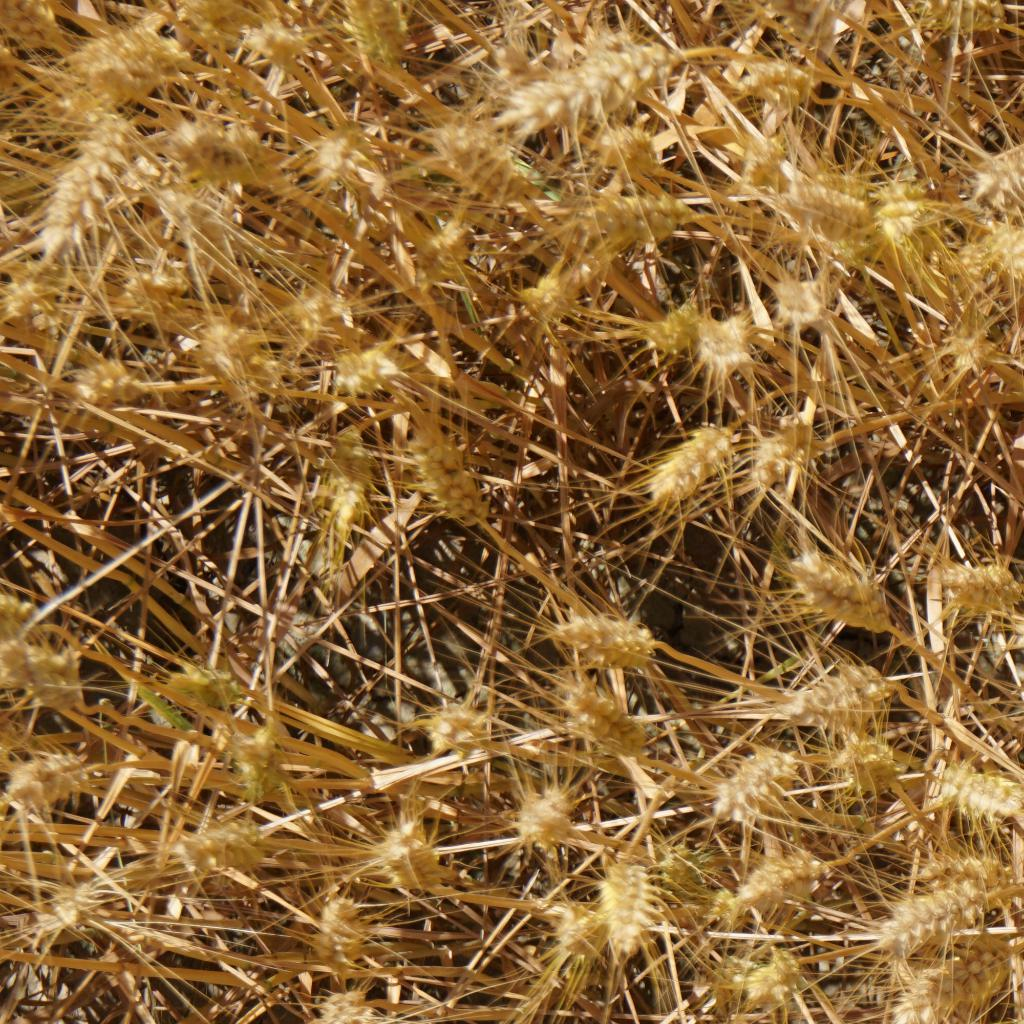0-0: (497, 26, 678, 121), (44, 105, 117, 247), (417, 115, 527, 206), (404, 418, 493, 524), (791, 549, 900, 632), (565, 167, 693, 237), (498, 42, 599, 130), (892, 949, 1010, 1024), (550, 673, 650, 755), (174, 115, 279, 187), (317, 424, 384, 536), (723, 839, 815, 915), (649, 419, 727, 503), (876, 885, 988, 943), (786, 167, 871, 241), (0, 637, 87, 708), (715, 744, 786, 828), (545, 606, 653, 660), (374, 813, 448, 891), (931, 758, 1021, 818), (791, 659, 890, 711), (753, 428, 837, 489), (912, 840, 1010, 891), (185, 812, 274, 867), (962, 134, 1024, 211), (230, 722, 296, 794), (599, 860, 650, 953), (8, 748, 83, 811), (317, 890, 375, 971), (741, 940, 806, 1010), (740, 54, 821, 108), (71, 44, 155, 95), (589, 114, 664, 171), (159, 188, 232, 246), (45, 872, 107, 940), (419, 696, 497, 750), (338, 0, 402, 65), (947, 556, 1024, 609), (699, 312, 758, 381), (102, 14, 181, 65), (653, 838, 714, 904), (868, 179, 934, 240), (522, 778, 578, 848), (163, 655, 248, 701), (76, 351, 153, 401), (203, 321, 265, 381), (770, 266, 834, 324), (330, 339, 401, 391), (288, 283, 346, 346), (644, 288, 705, 347), (937, 322, 1000, 376), (239, 19, 311, 66), (516, 270, 581, 320), (846, 736, 901, 790), (556, 897, 604, 957), (932, 0, 1003, 40), (0, 1, 69, 42), (420, 220, 477, 268), (122, 267, 171, 322), (301, 125, 357, 168), (0, 276, 46, 328), (988, 226, 1024, 288), (320, 989, 381, 1024), (970, 1001, 1024, 1024), (187, 0, 242, 22), (0, 599, 39, 628)
